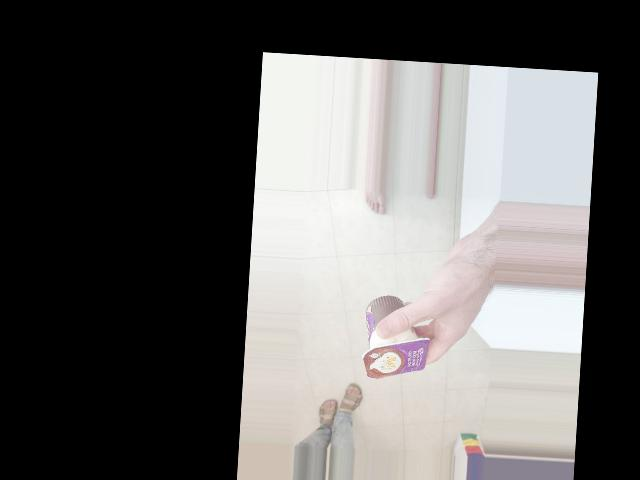milky: (330, 320, 420, 387)
